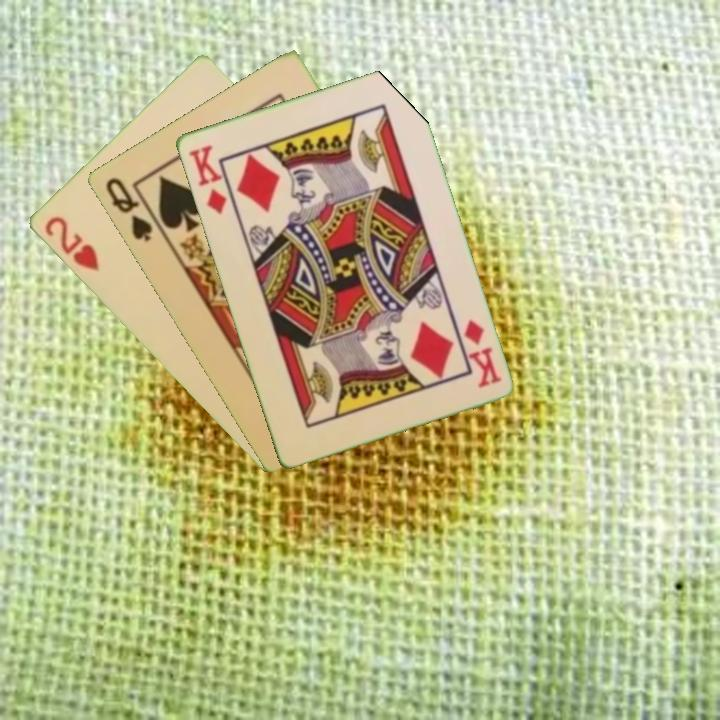2h: (40, 213, 102, 275)
Kd: (184, 141, 229, 218), (459, 315, 504, 391)
Qs: (101, 173, 155, 244)
